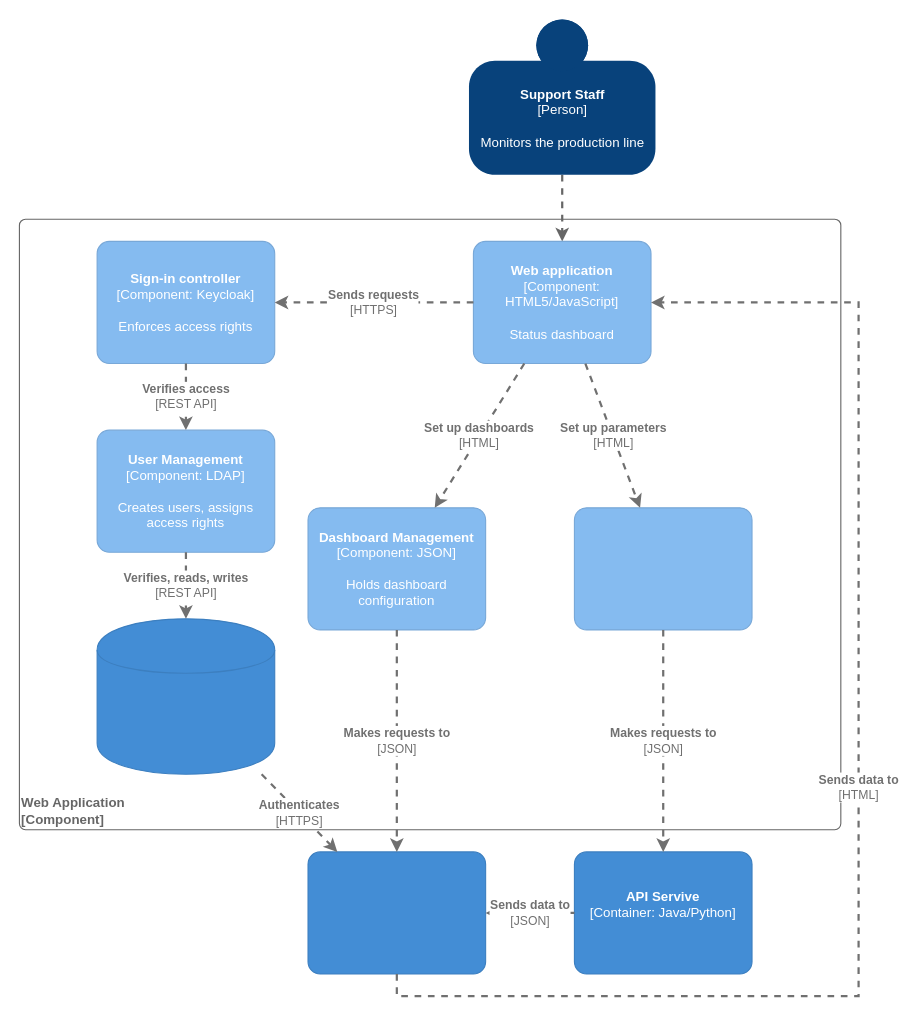
Image size: 918x1025. Some labels were removed from this diagram. Each missing label, with the centre of its shape:
"Data Source Management [Component: XML] Stores connection parameters" belongs at pixel 662 568.
"Database [Container: MySQL] Dashboard access rights" belongs at pixel 185 696.
"Visualisation Dashboard [Container: Graphics libraries]" belongs at pixel 396 912.
